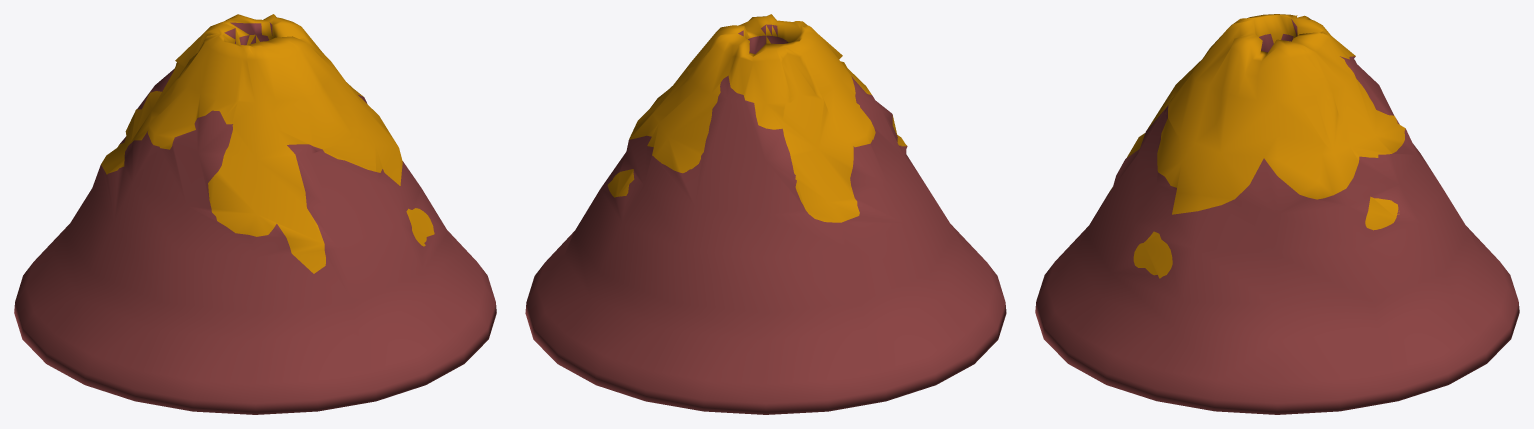
Rendered from Slime_lava.fbx.
The picture shows the model from 3 angles, left to right: view 1: azimuth 30°, elevation 25°; view 2: azimuth 150°, elevation 25°; view 3: azimuth 270°, elevation 25°; orthographic projection.
Parts seen in each view (by area): view 1: nurbsToPoly1; view 2: nurbsToPoly1; view 3: nurbsToPoly1.
Boxes of the visible parts, x1=… form: nurbsToPoly1: x1=14, y1=14, x2=496, y2=414; nurbsToPoly1: x1=525, y1=14, x2=1006, y2=414; nurbsToPoly1: x1=1035, y1=14, x2=1519, y2=414.
Bounding box in the file's own units: 0.9239 × 0.6433 × 0.9239.
